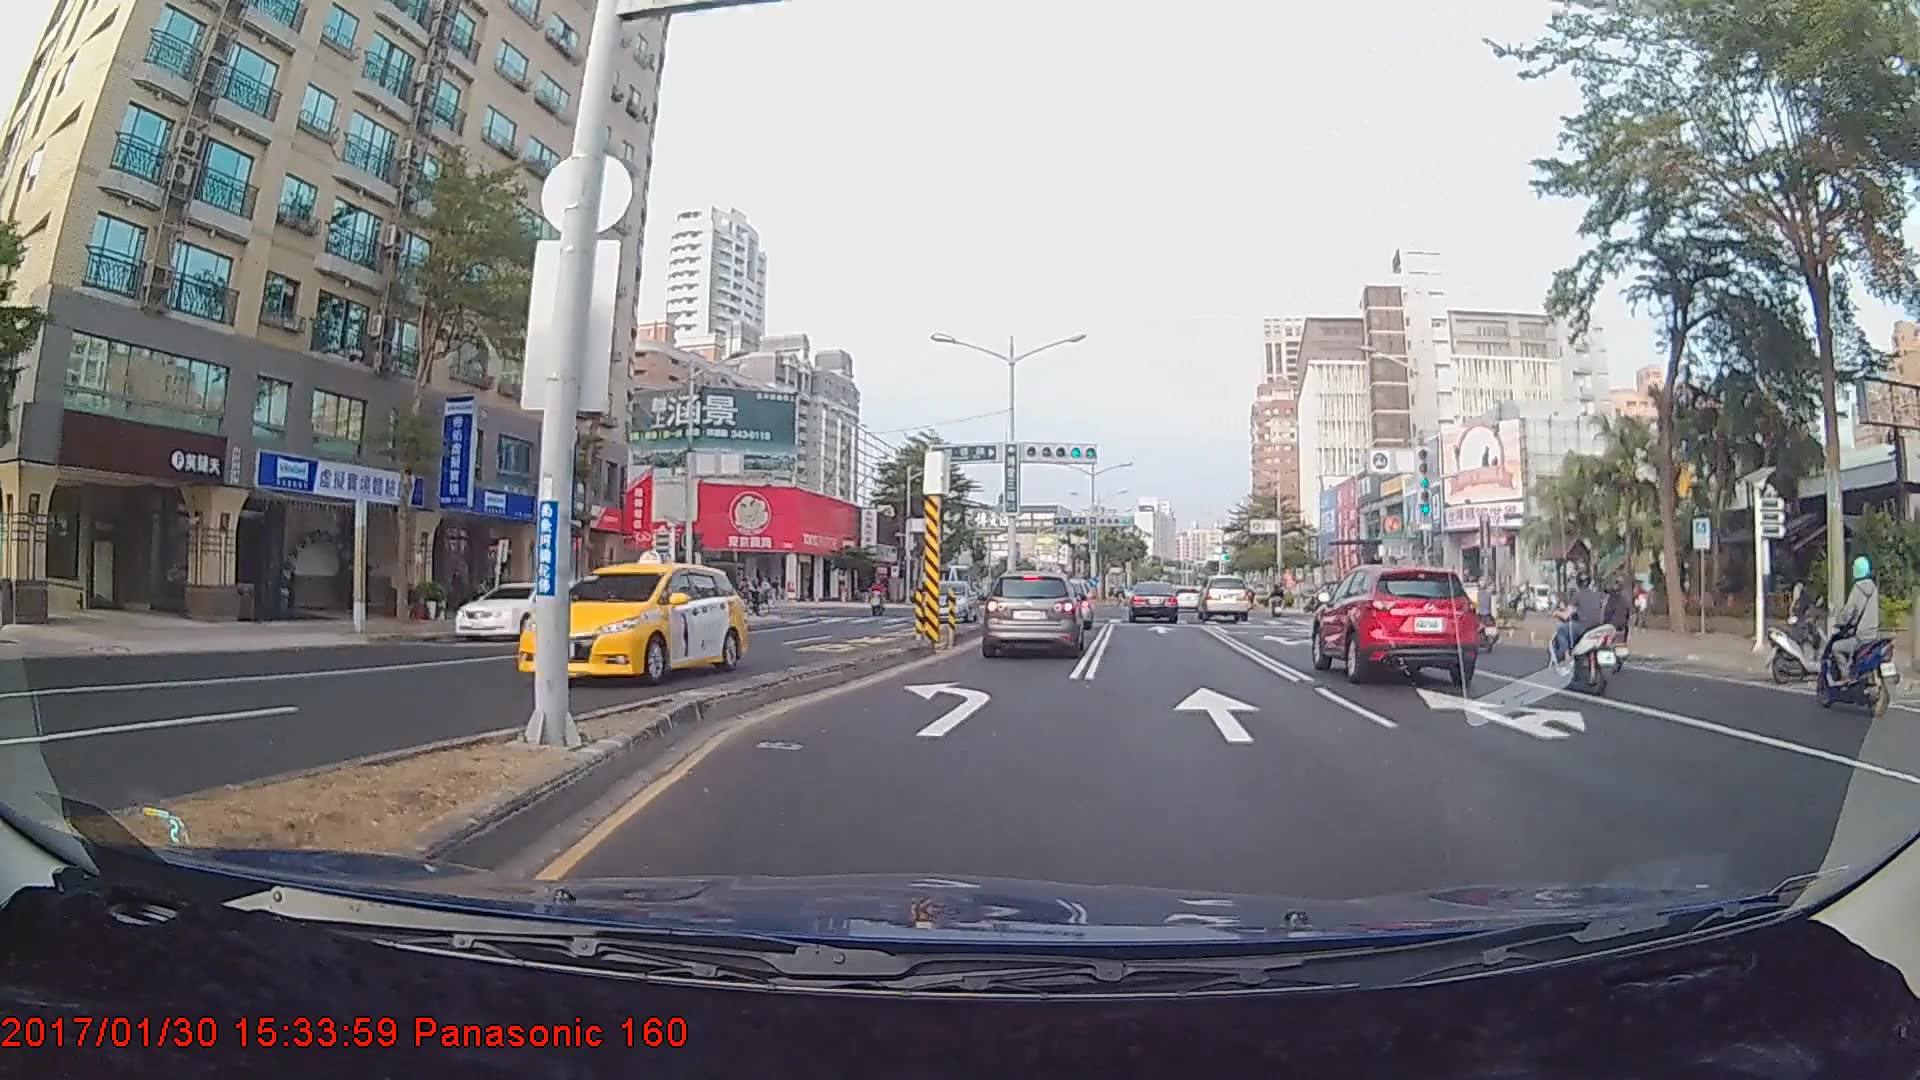rider: (1809, 556, 1896, 728), (1547, 567, 1627, 694)
vehicle: (518, 563, 746, 684), (1313, 561, 1479, 683), (982, 570, 1081, 657), (458, 579, 589, 643), (1197, 575, 1251, 622), (919, 579, 979, 621), (1126, 581, 1178, 622)
